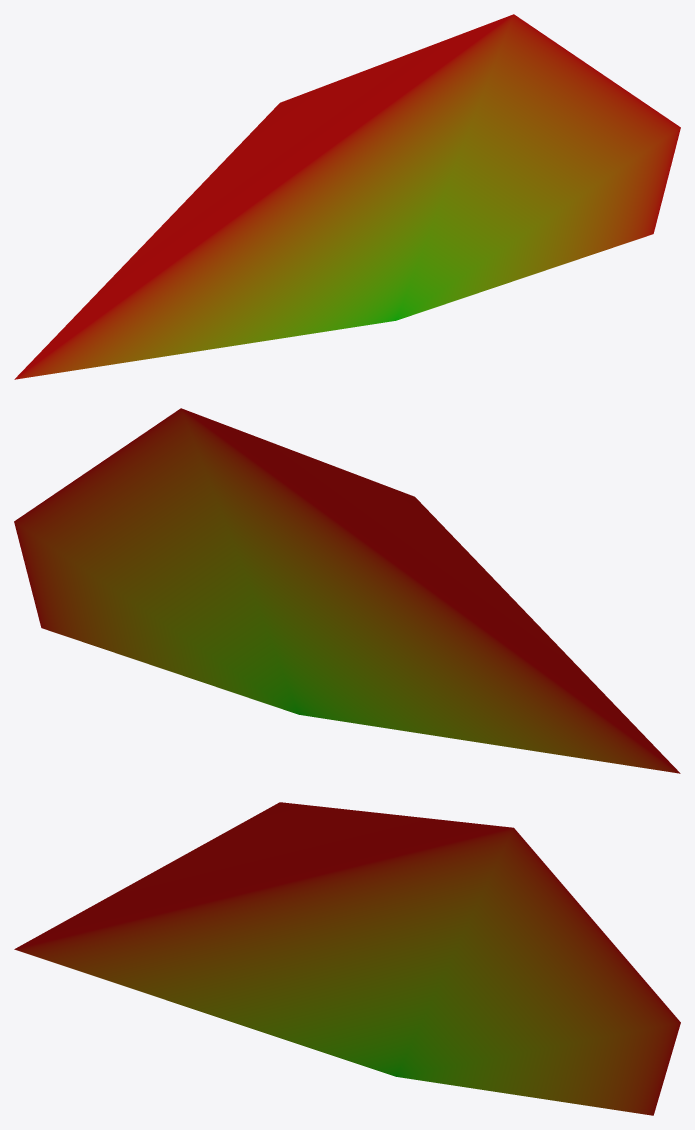
The model's file is Var21_LOD3.fbx.
The picture shows the model from 3 angles, top to bottom: view 1: azimuth 30°, elevation 25°; view 2: azimuth 150°, elevation 25°; view 3: azimuth 330°, elevation 25°; orthographic projection.
Visible parts, largest first — view 1: _xjss_Var21_LOD3; view 2: _xjss_Var21_LOD3; view 3: _xjss_Var21_LOD3.
Part boxes in pixels (x1,y1,x2,y2): _xjss_Var21_LOD3: [14, 14, 680, 379]; _xjss_Var21_LOD3: [14, 408, 680, 773]; _xjss_Var21_LOD3: [14, 802, 680, 1115].
Bounding box in the file's own units: 25.83 × 10.28 × 3.64e-12.
